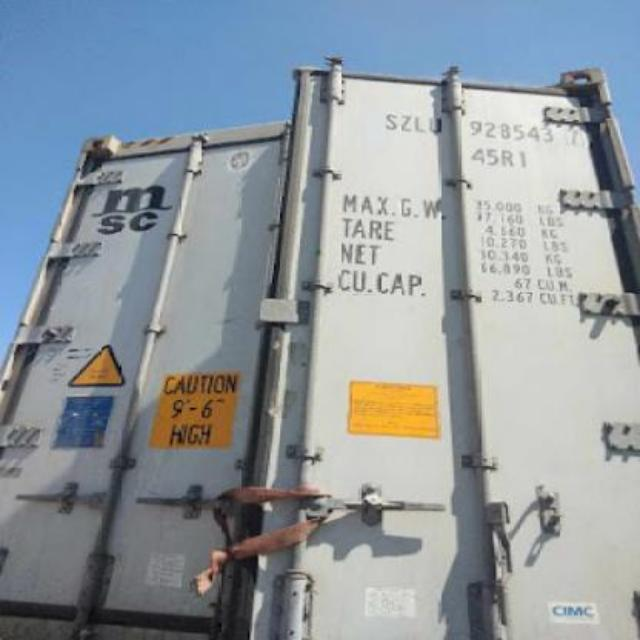2: (484, 114, 500, 142)
3: (542, 124, 558, 144)
4: (528, 122, 546, 148)
5: (511, 119, 524, 145)
7: (562, 124, 584, 146)
8: (500, 118, 512, 146)
9: (464, 109, 482, 141)
L: (410, 110, 428, 138)
S: (377, 103, 398, 133)
U: (430, 108, 446, 140)
Z: (398, 110, 412, 138)
